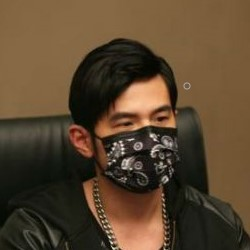mask: (88, 127, 181, 193)
